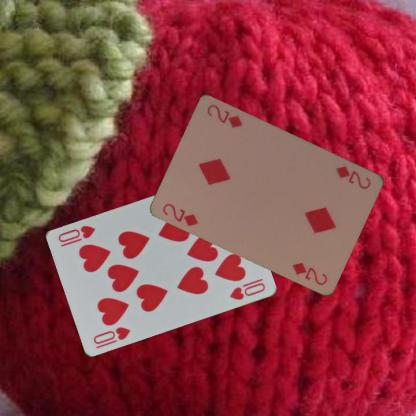10h: (90, 324, 132, 346)
2d: (333, 163, 373, 191), (160, 200, 200, 228)
